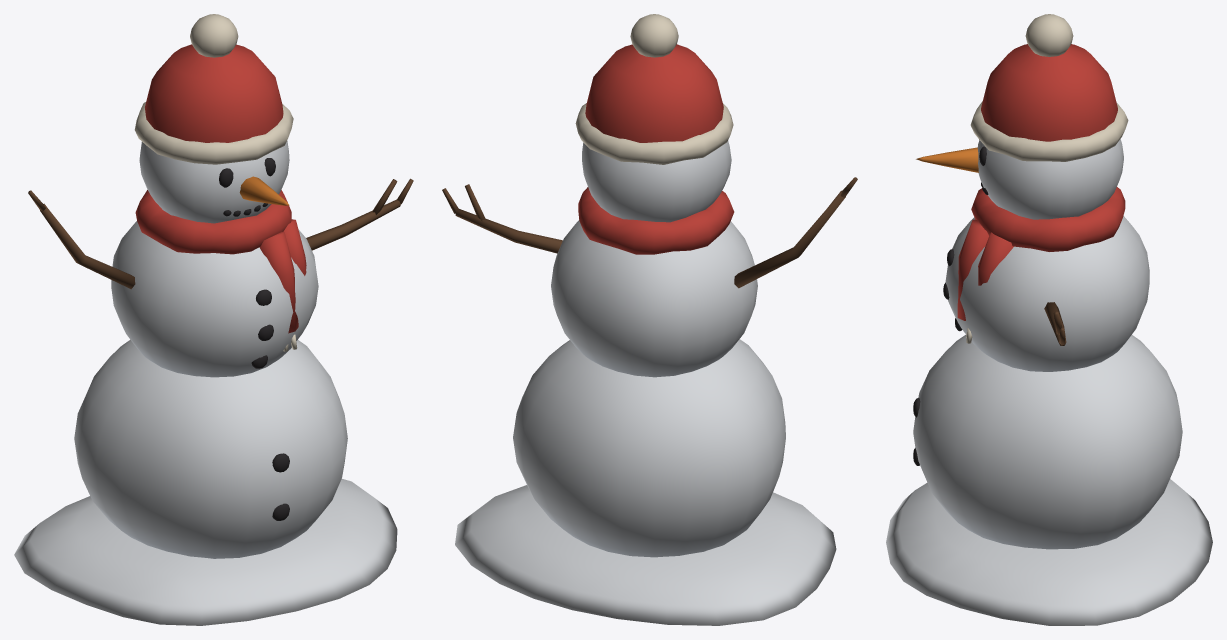
File: DEC_Snowman_A.fbx
3 renders of one model, left to right at view 1: azimuth 30°, elevation 25°; view 2: azimuth 150°, elevation 25°; view 3: azimuth 270°, elevation 25°, orthographic.
Visible parts, largest first — view 1: DEC_Snowman_A_LOD0; view 2: DEC_Snowman_A_LOD0; view 3: DEC_Snowman_A_LOD0.
Boxes of the visible parts, x1,y1,x2,y2 form: DEC_Snowman_A_LOD0: [14, 14, 413, 625]; DEC_Snowman_A_LOD0: [442, 14, 857, 625]; DEC_Snowman_A_LOD0: [886, 14, 1212, 625].
Size of what is drawn, in the model's own units: 1.05 by 1.33 by 0.752.
